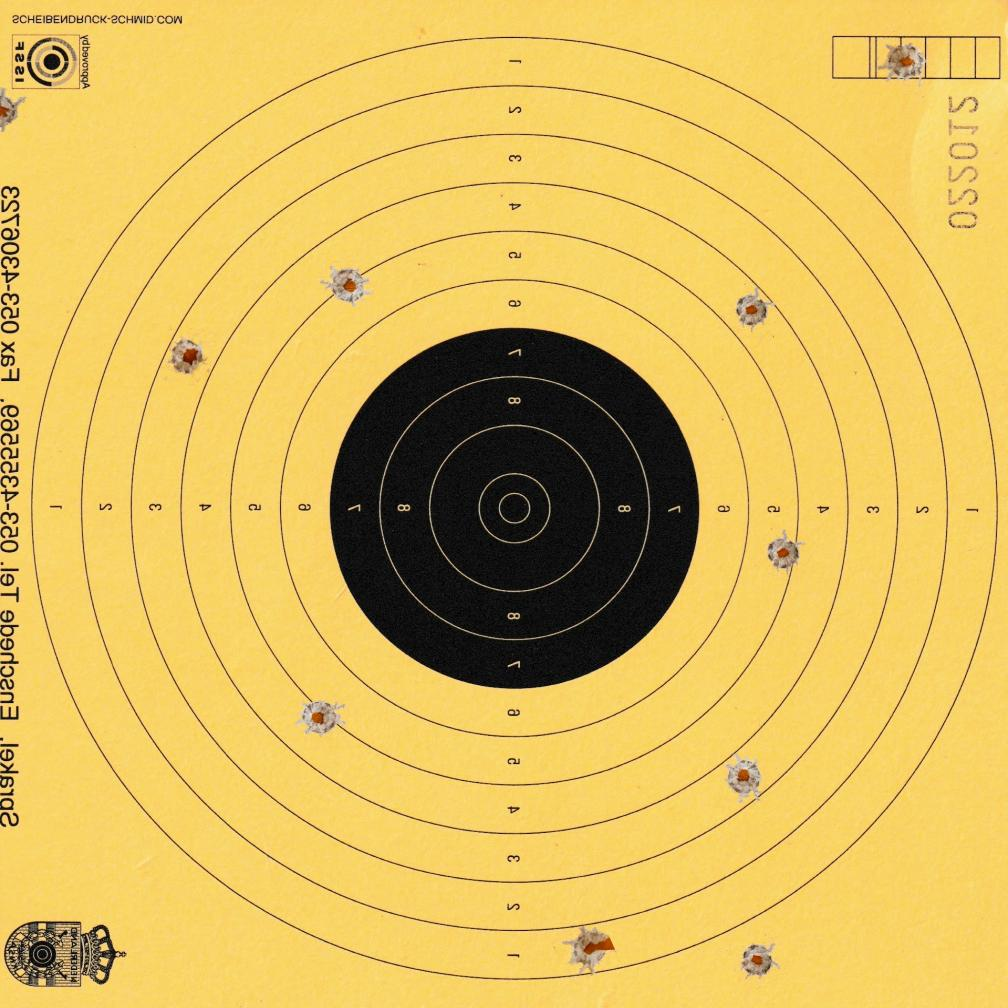0: (876, 38, 929, 87), (734, 937, 782, 985), (0, 81, 29, 134)
1: (561, 924, 616, 976)
3: (724, 751, 768, 804), (166, 335, 208, 378)
4: (730, 285, 778, 333)
5: (320, 264, 370, 306), (297, 699, 348, 739), (766, 529, 807, 577)
Target: (31, 34, 1002, 984)
black_contour: (328, 327, 699, 689)
